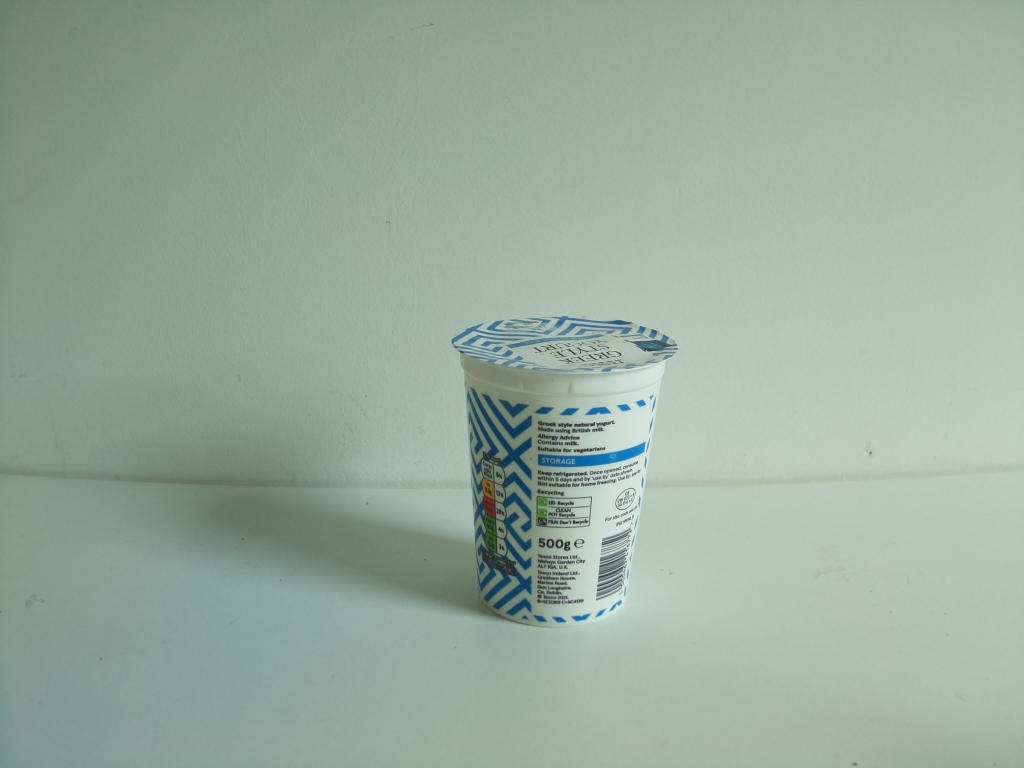yogurt: (449, 310, 682, 631)
